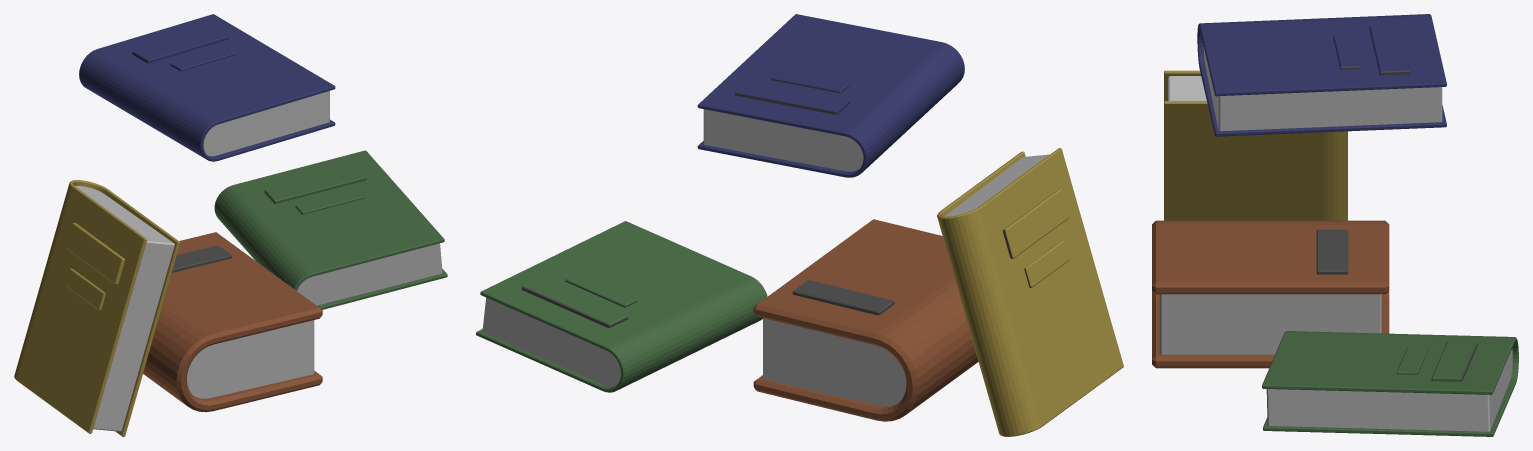
The model's file is books.fbx.
3 renders of one model, left to right at view 1: azimuth 30°, elevation 25°; view 2: azimuth 150°, elevation 25°; view 3: azimuth 270°, elevation 25°, orthographic. The views are drawn at different scales.
Parts seen in each view (by area): view 1: Cylinder.003, Cylinder.001, Cylinder.002, Cylinder; view 2: Cylinder.003, Cylinder, Cylinder.001, Cylinder.002; view 3: Cylinder, Cylinder.002, Cylinder.001, Cylinder.003.
Part boxes in pixels (x1,y1,x2,y2): Cylinder.003: [14, 180, 180, 436]; Cylinder.001: [214, 150, 447, 309]; Cylinder.002: [79, 14, 335, 161]; Cylinder: [143, 232, 322, 412]; Cylinder.003: [937, 148, 1123, 436]; Cylinder: [753, 219, 978, 421]; Cylinder.001: [476, 221, 767, 392]; Cylinder.002: [697, 14, 964, 177]; Cylinder: [1152, 220, 1389, 368]; Cylinder.002: [1197, 14, 1446, 136]; Cylinder.001: [1262, 331, 1518, 436]; Cylinder.003: [1164, 70, 1347, 220].
Bounding box in the file's own units: 552 × 345 × 369.
